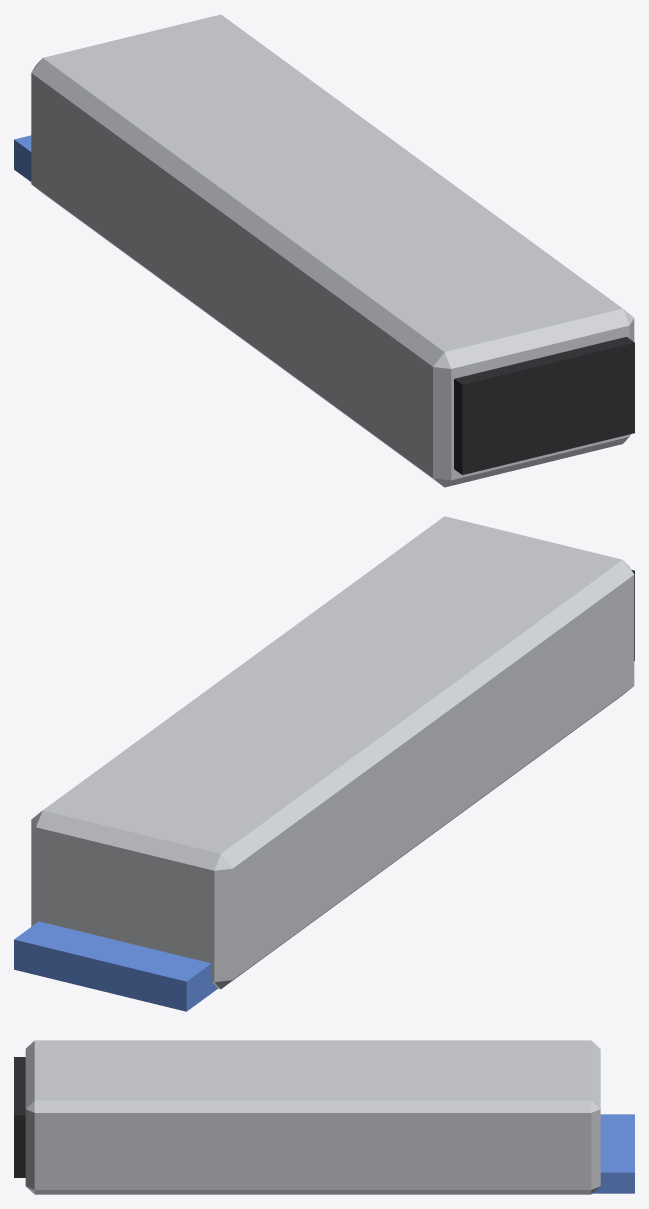
Rendered from sfp_optic.fbx.
3 views of the same model, one above another, from view 1: azimuth 30°, elevation 25°; view 2: azimuth 150°, elevation 25°; view 3: azimuth 270°, elevation 25° (orthographic). The views are drawn at different scales.
Visible parts, largest first — view 1: Optic; view 2: Optic; view 3: Optic.
Part boxes in pixels (<box>): Optic: <box>14,14,634,487</box>; Optic: <box>14,516,634,1011</box>; Optic: <box>14,1040,634,1194</box>.
Size of the model in its own units: 0.014 by 0.009 by 0.054.
